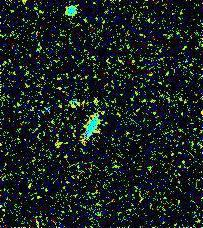star: (41, 131, 71, 161)
